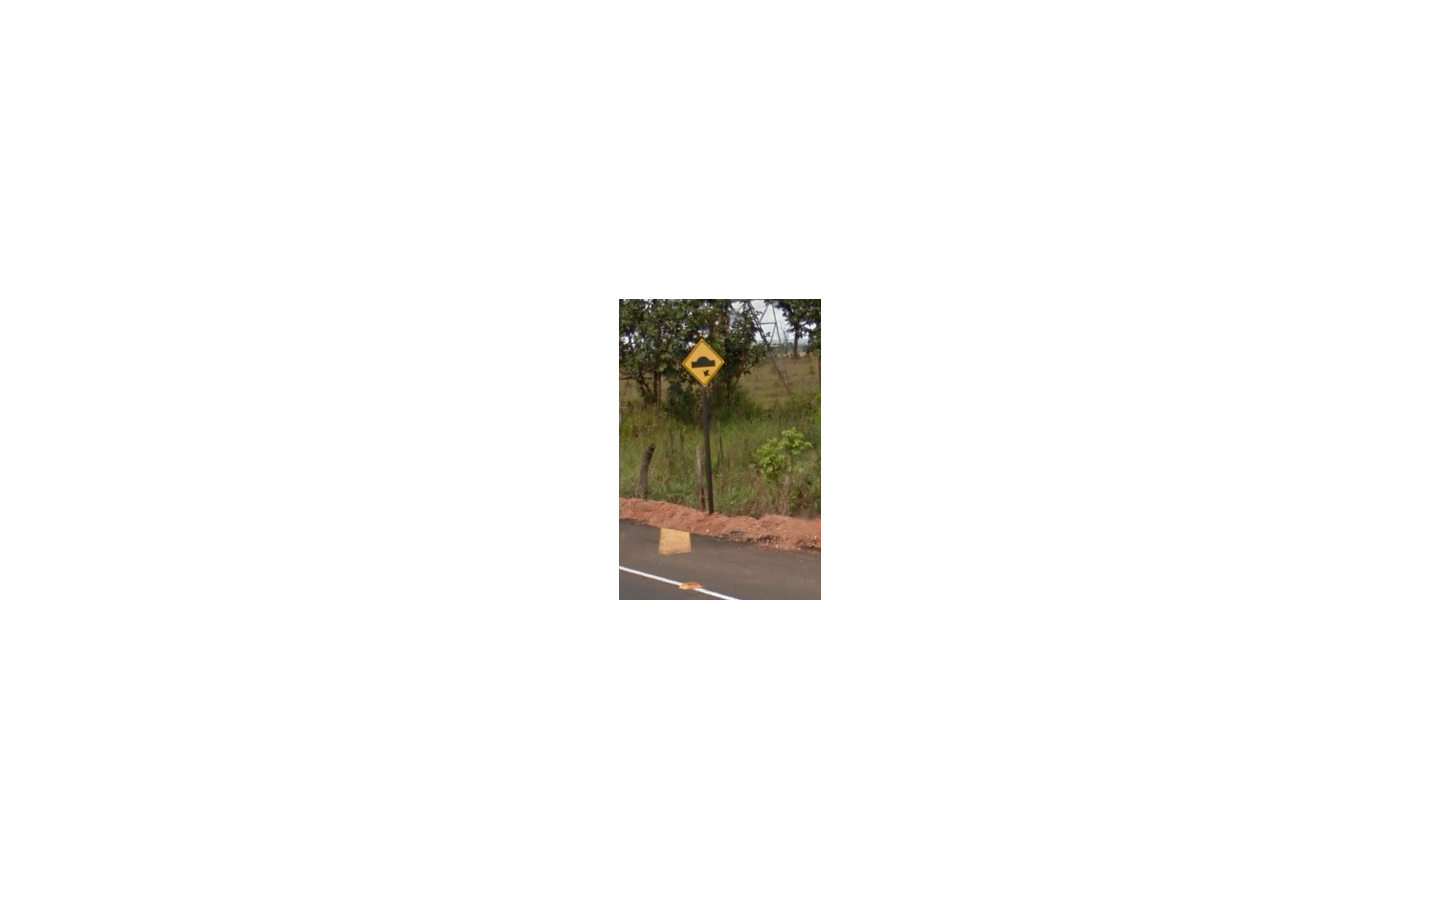lomb: (681, 339, 724, 387)
